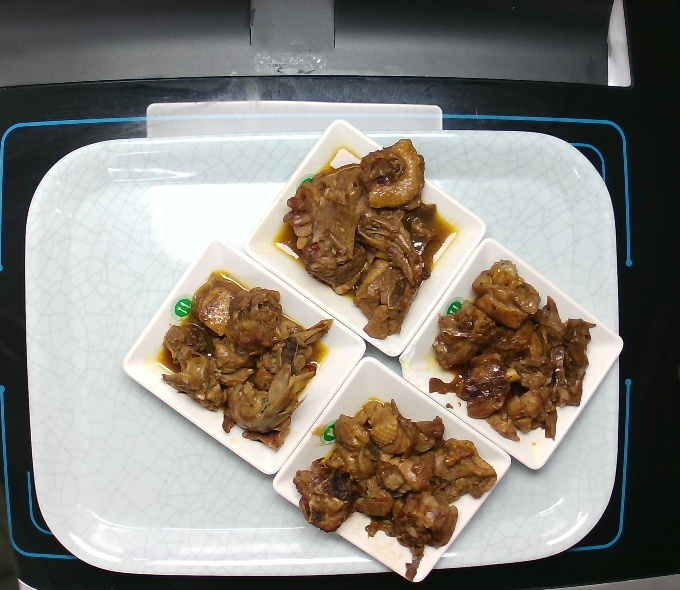wcq-HongShaoJi: (262, 131, 456, 347), (418, 242, 606, 458), (295, 394, 505, 562), (153, 276, 339, 456)
